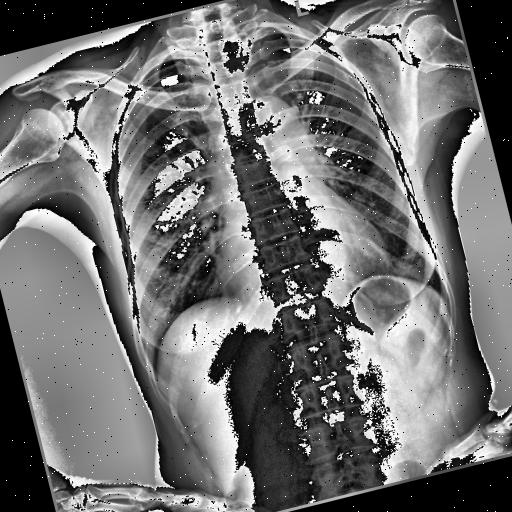0- Aortic enlargement: (238, 88, 322, 174), (245, 88, 312, 165), (242, 89, 312, 162)
2- Calcification: (215, 32, 259, 76)
3- Cardiomegaly: (212, 211, 394, 321), (212, 210, 396, 318)
9- Other lesion: (214, 28, 258, 78), (212, 32, 258, 76), (215, 32, 259, 76)
